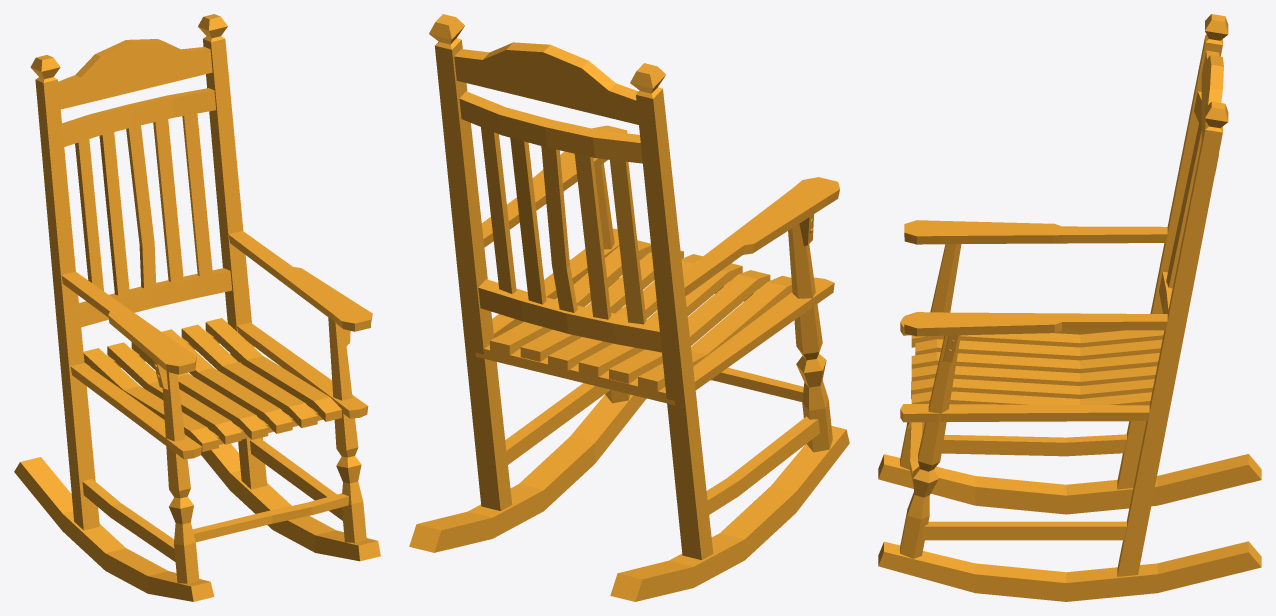
Rendered from SM_Chair_Rocking_A_Farm.fbx.
The picture shows the model from 3 angles, left to right: view 1: azimuth 30°, elevation 25°; view 2: azimuth 150°, elevation 25°; view 3: azimuth 270°, elevation 25°; orthographic projection. The views are drawn at different scales.
Parts seen in each view (by area): view 1: chair-rocking-a-farm; view 2: chair-rocking-a-farm; view 3: chair-rocking-a-farm.
Part boxes in pixels (x1,y1,x2,y2): chair-rocking-a-farm: (14, 14, 380, 601); chair-rocking-a-farm: (409, 14, 849, 601); chair-rocking-a-farm: (878, 14, 1261, 601).
Bounding box in the file's own units: 0.6684 × 1.42 × 1.
